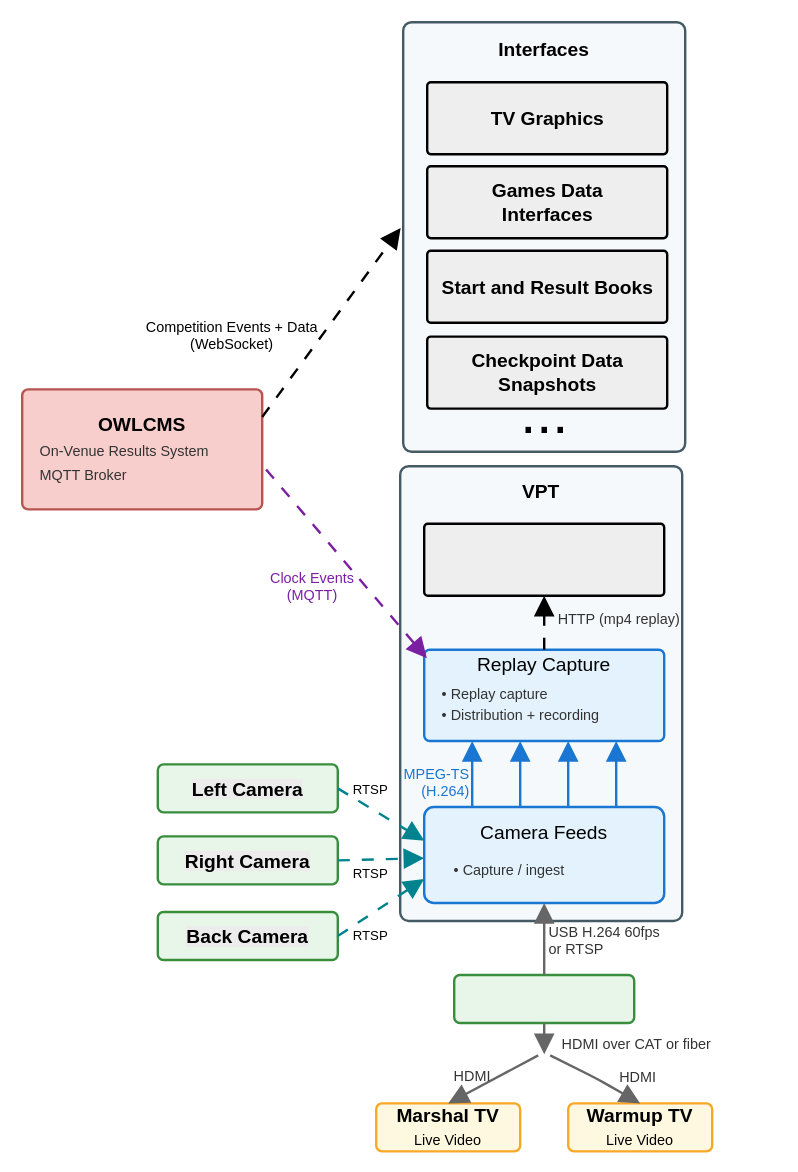
Image size: 798x1172. Some labels were removed from this diagram. Here are the shapes that lost their labels. From the top down, the centre of each, then its label:
pixel 543 559: Jury Replay Interface
pixel 543 998: Center Camera
